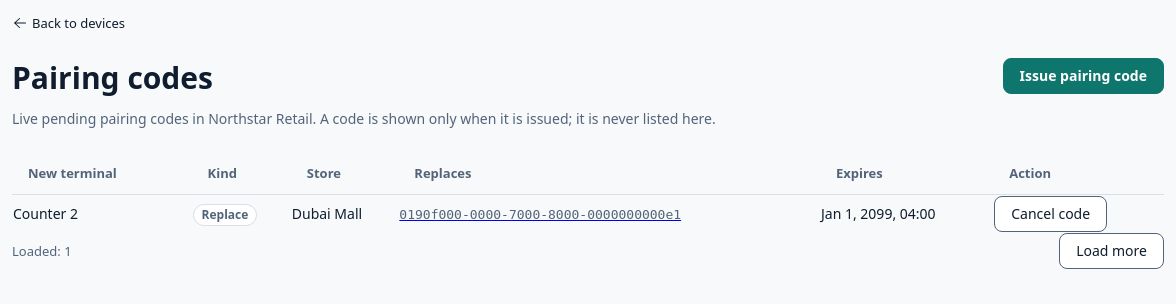
Test case: PairingCodes (RT-372 part B) › Load more follows the server's cursor
Expected: the text "Counter 2" is shown, 13,204 -> 78,223
Step 1. Click the button "Load more" → (1112, 251), box 1059,233 -> 1164,269
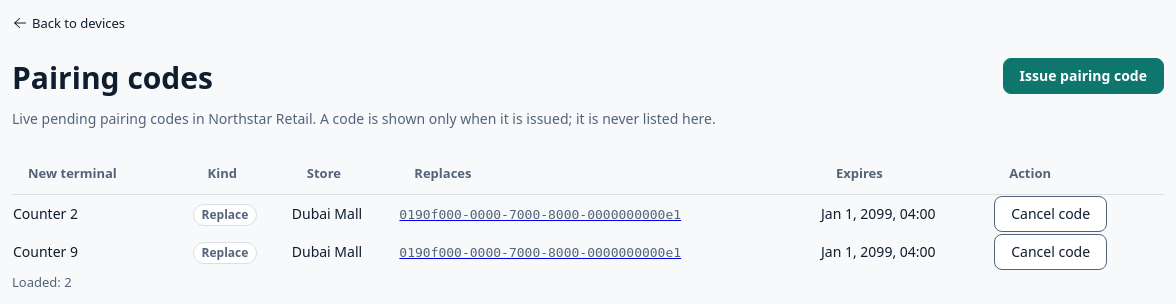
Expected: the text "Counter 9" is shown, 13,242 -> 78,261
